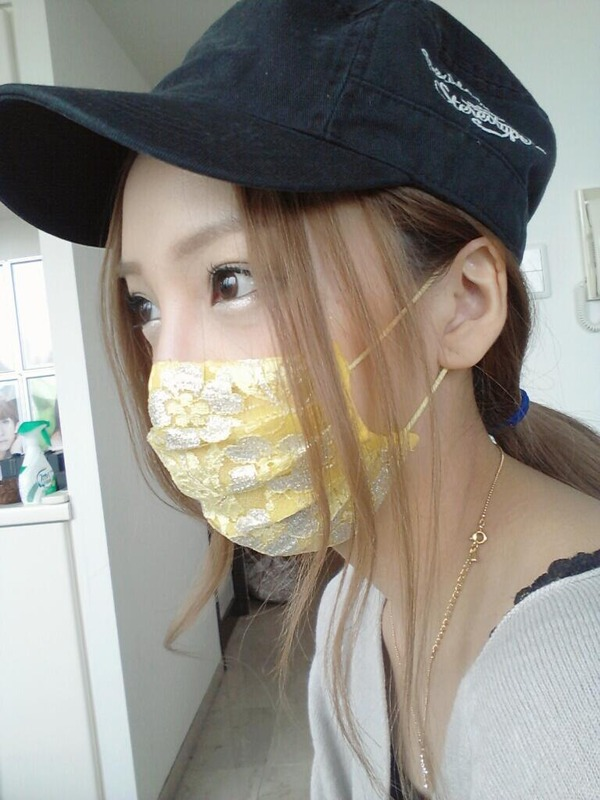face: (1, 414, 20, 451)
face_mask: (119, 135, 372, 545)
